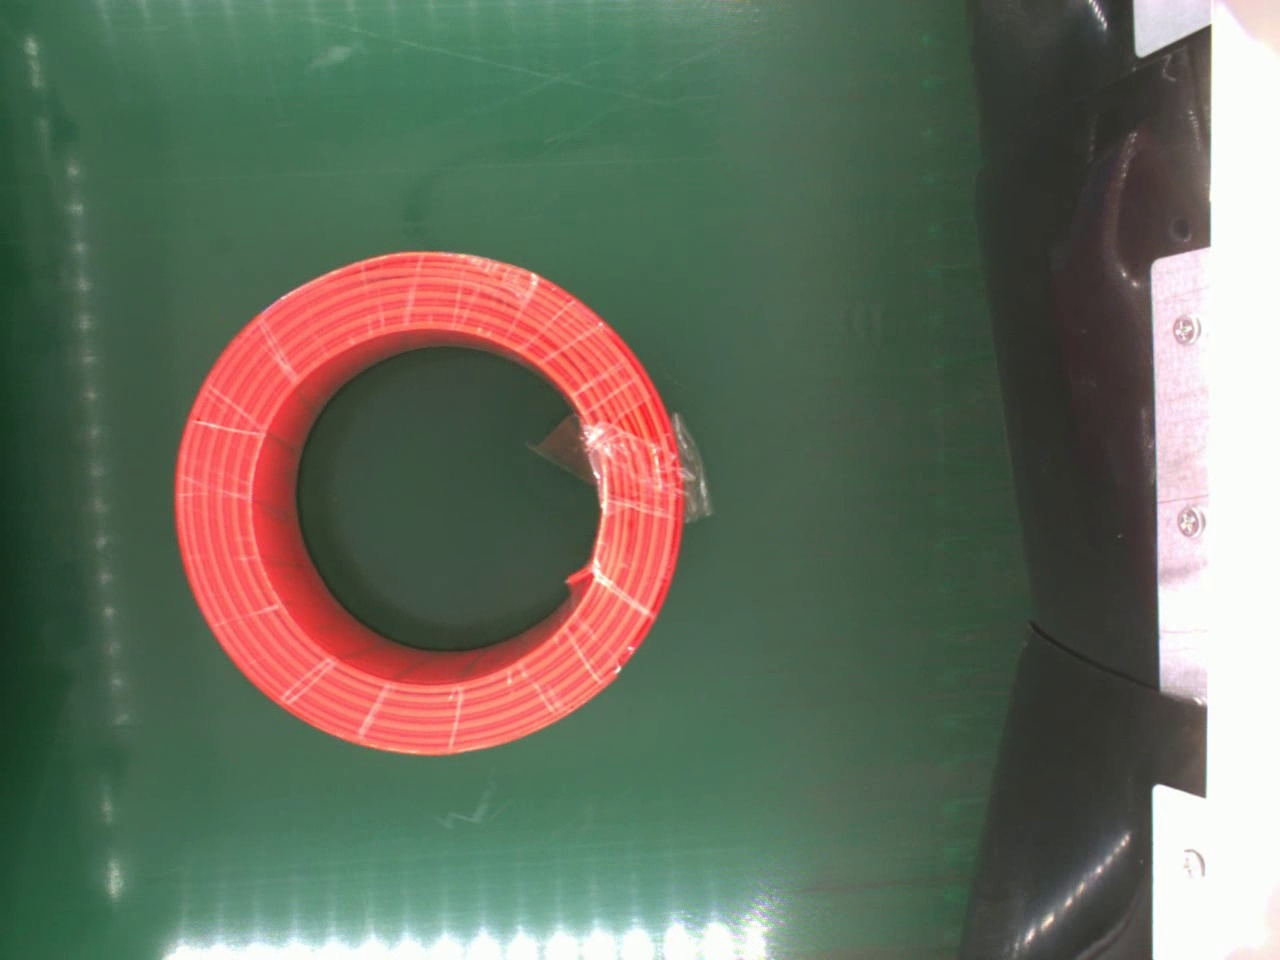red: (170, 244, 685, 753)
